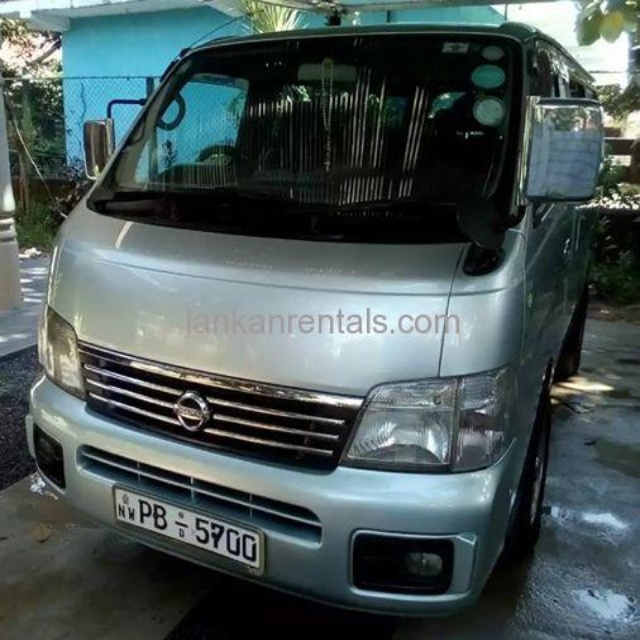Van: (24, 24, 605, 615)
